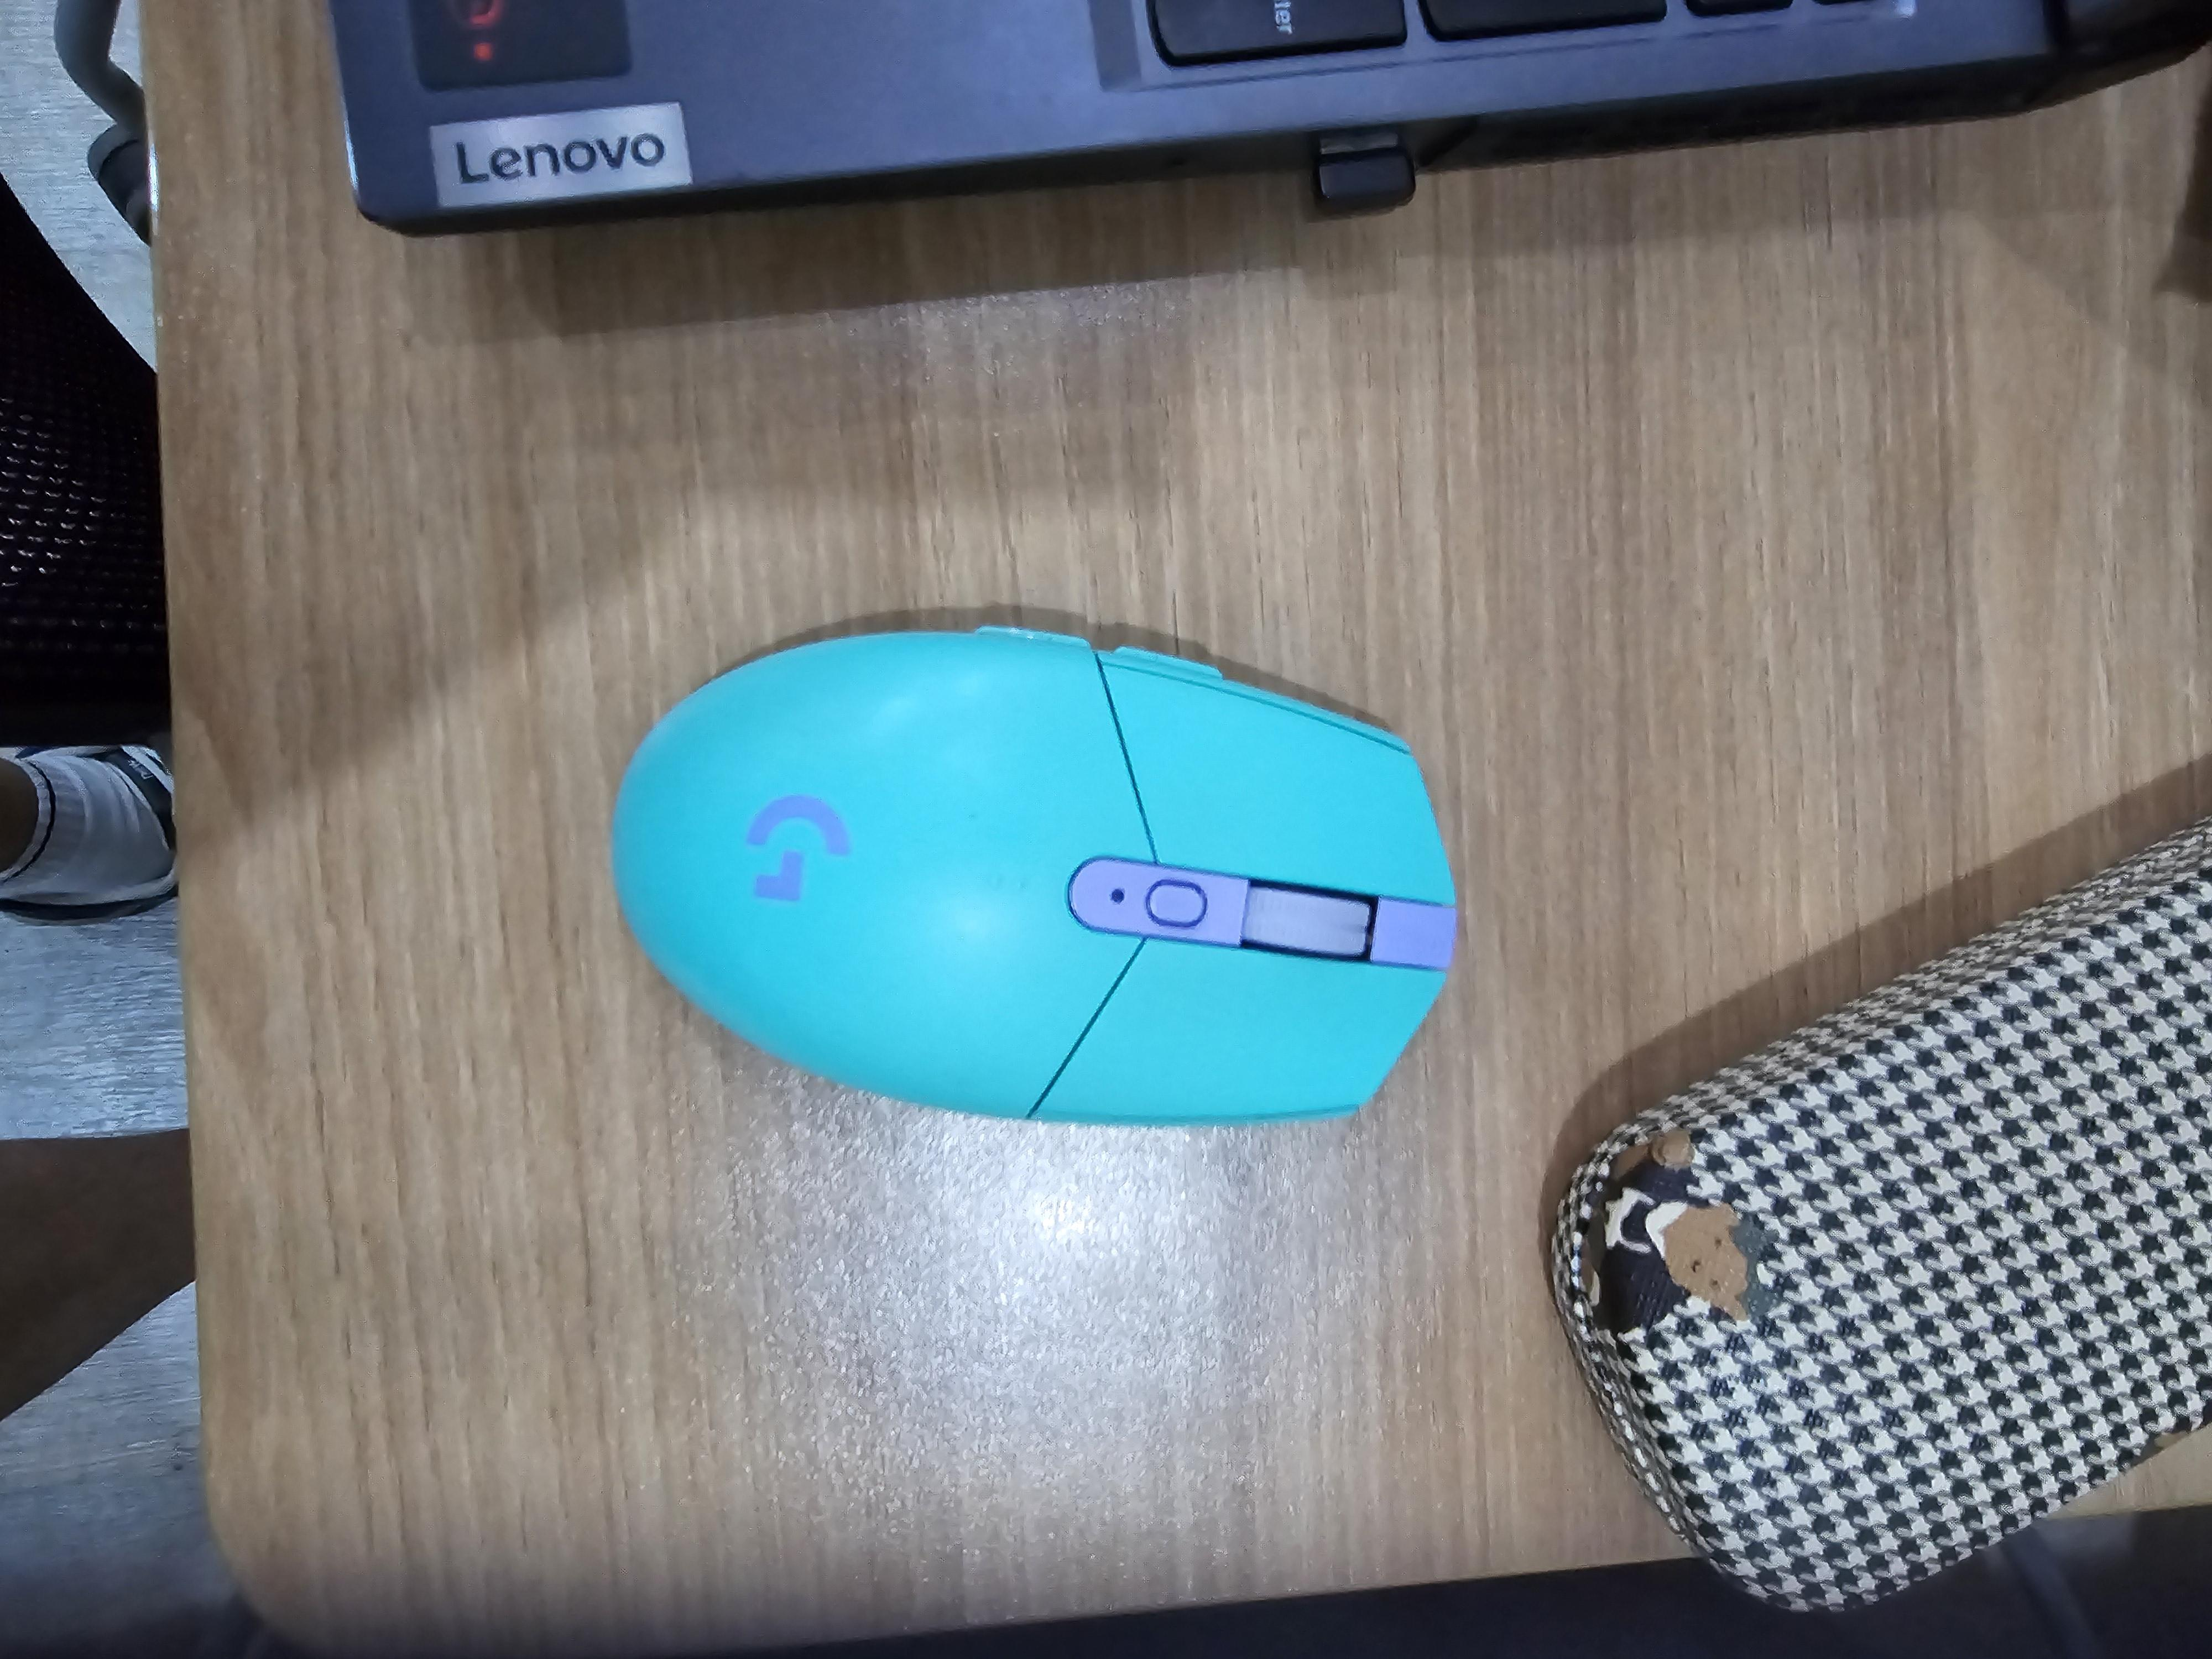keyboard: (320, 0, 2209, 235)
mouse: (608, 619, 1461, 1126)
